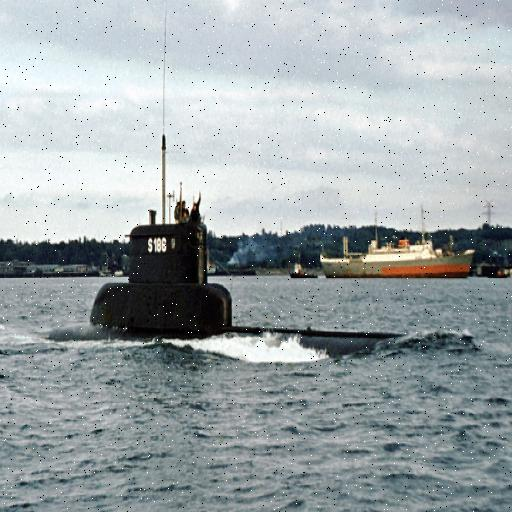submarine: (48, 225, 415, 358)
